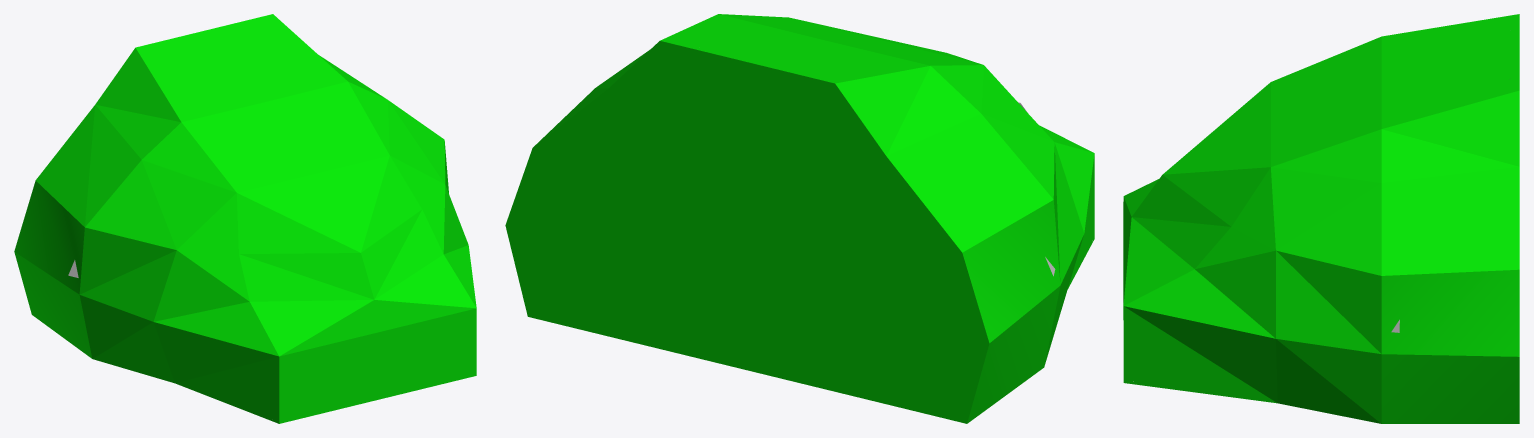
The model's file is A330_INTERIOR_LOD04.gltf.
3 renders of one model, left to right at view 1: azimuth 30°, elevation 25°; view 2: azimuth 150°, elevation 25°; view 3: azimuth 270°, elevation 25°, orthographic. The views are drawn at different scales.
Parts seen in each view (by area): view 1: Occluder; view 2: Occluder; view 3: Occluder.
Part boxes in pixels (box(x1,y1,x2,y2)): Occluder: box(14, 14, 476, 423); Occluder: box(505, 14, 1094, 423); Occluder: box(1123, 14, 1519, 423).
Size of what is drawn, in the model's own units: 3.72 by 2.27 by 2.95.
